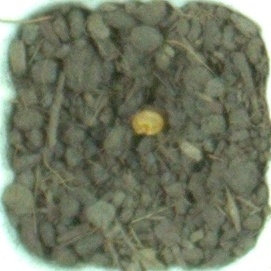pepper seed: (48, 40, 213, 177)
